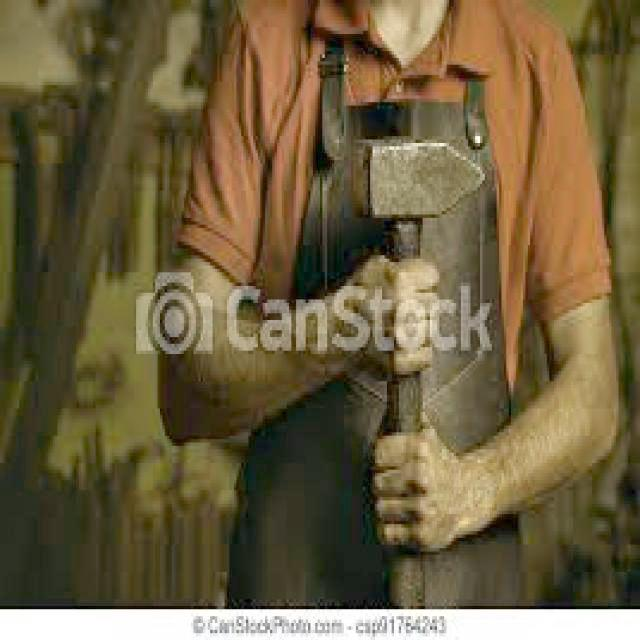hammer: (338, 130, 491, 640)
